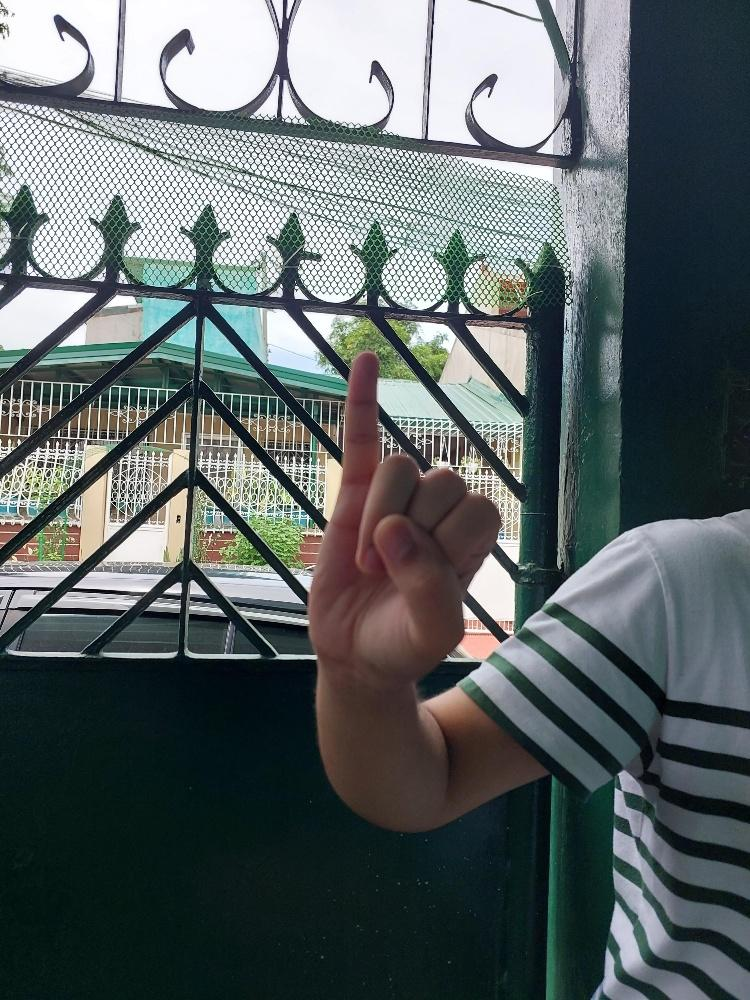i: (303, 345, 507, 698)
